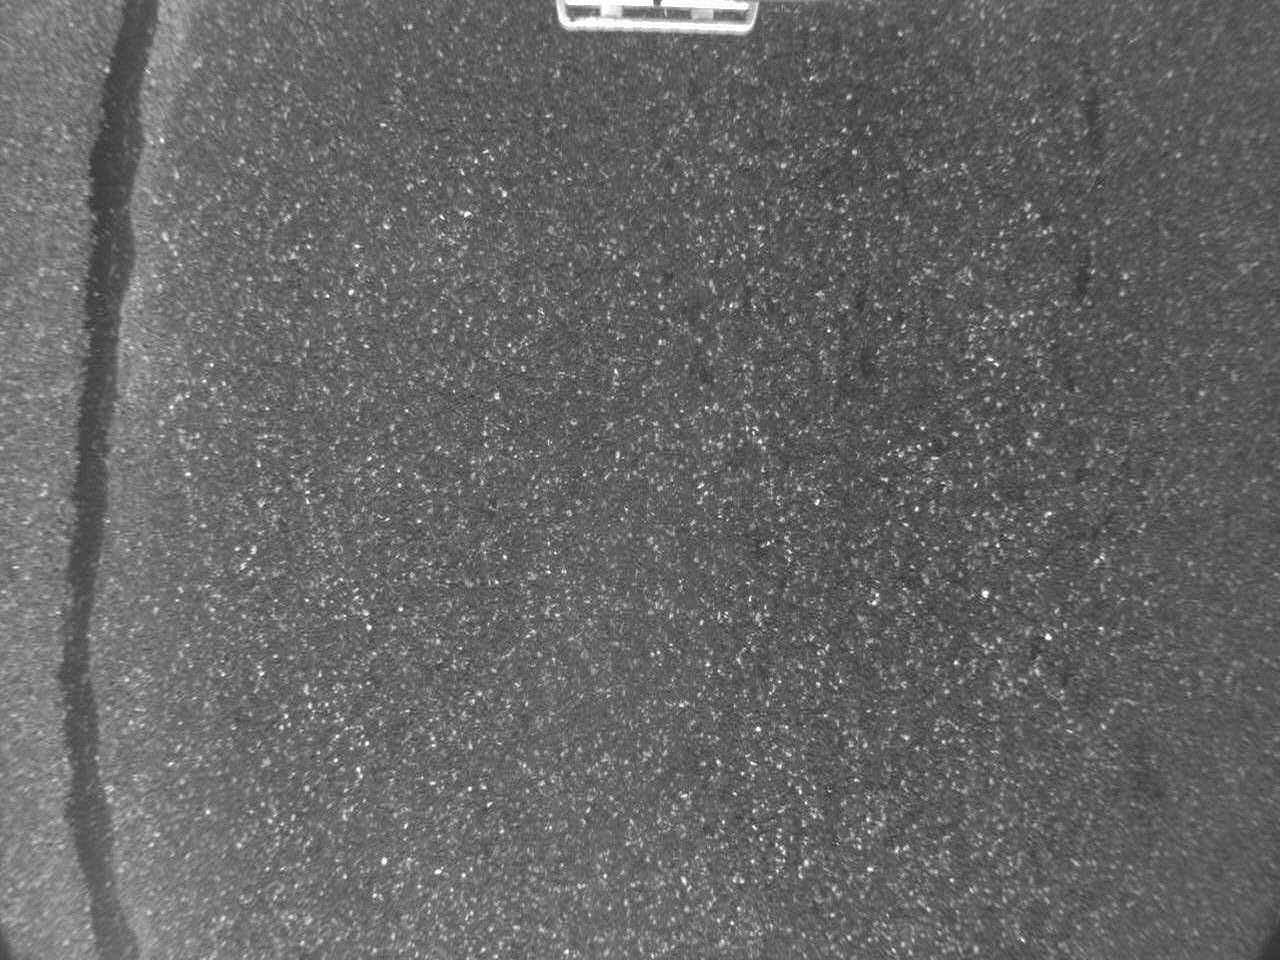sealed: (34, 2, 202, 953)
